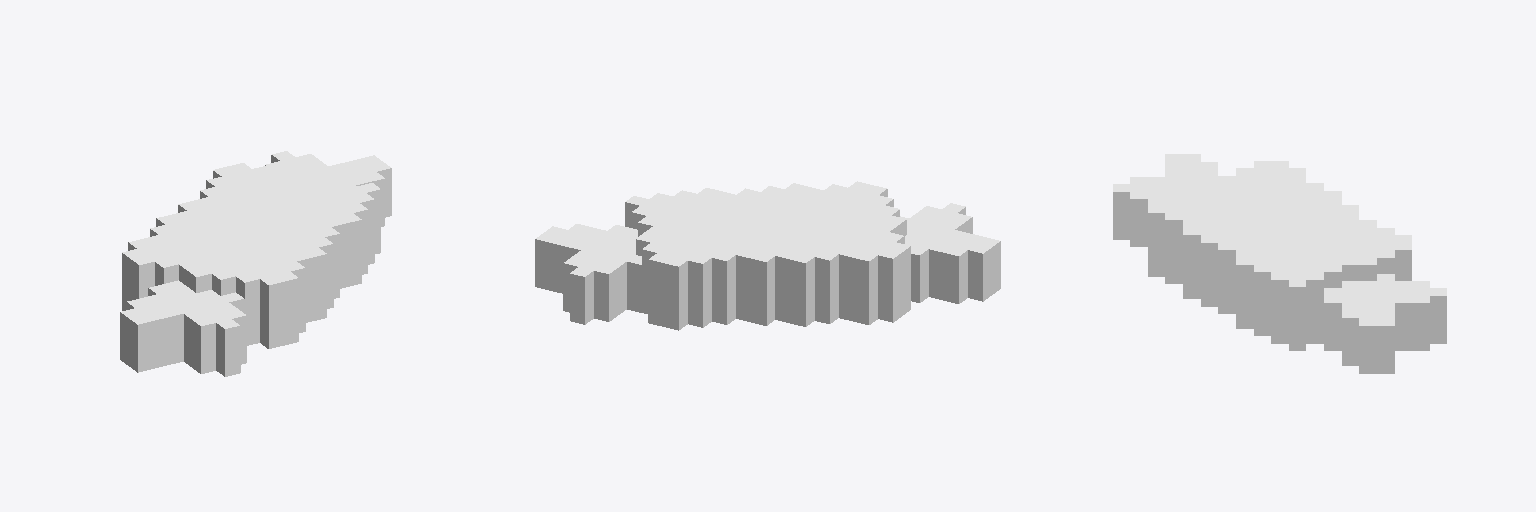
Rendered from Eruption-27.obj.
3 views of the same model, side by side, from view 1: azimuth 30°, elevation 25°; view 2: azimuth 150°, elevation 25°; view 3: azimuth 270°, elevation 25° (orthographic).
Parts seen in each view (by area): view 1: object 1; view 2: object 1; view 3: object 1.
Boxes of the visible parts, x1,y1,x2,y2 form: object 1: [120, 151, 391, 376]; object 1: [535, 181, 1000, 330]; object 1: [1113, 154, 1446, 373].
Bounding box in the file's own units: 2.3 × 0.4 × 1.9.